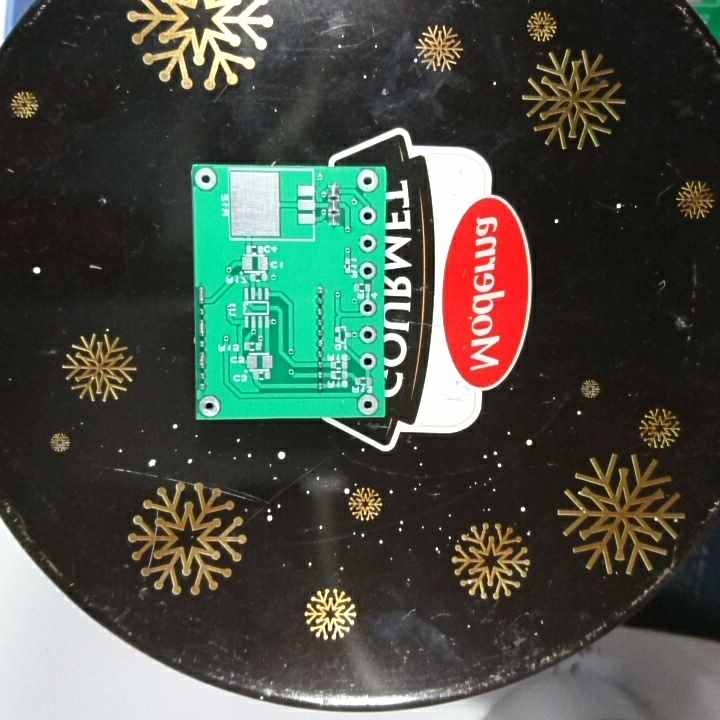F: (192, 166, 219, 192), (197, 392, 223, 419), (354, 169, 381, 194), (354, 392, 380, 415), (357, 323, 379, 347), (357, 204, 379, 227), (357, 296, 379, 319), (357, 232, 379, 254), (357, 259, 379, 281), (358, 350, 380, 372)
P: (196, 283, 208, 305), (196, 348, 207, 370), (197, 317, 206, 338)
